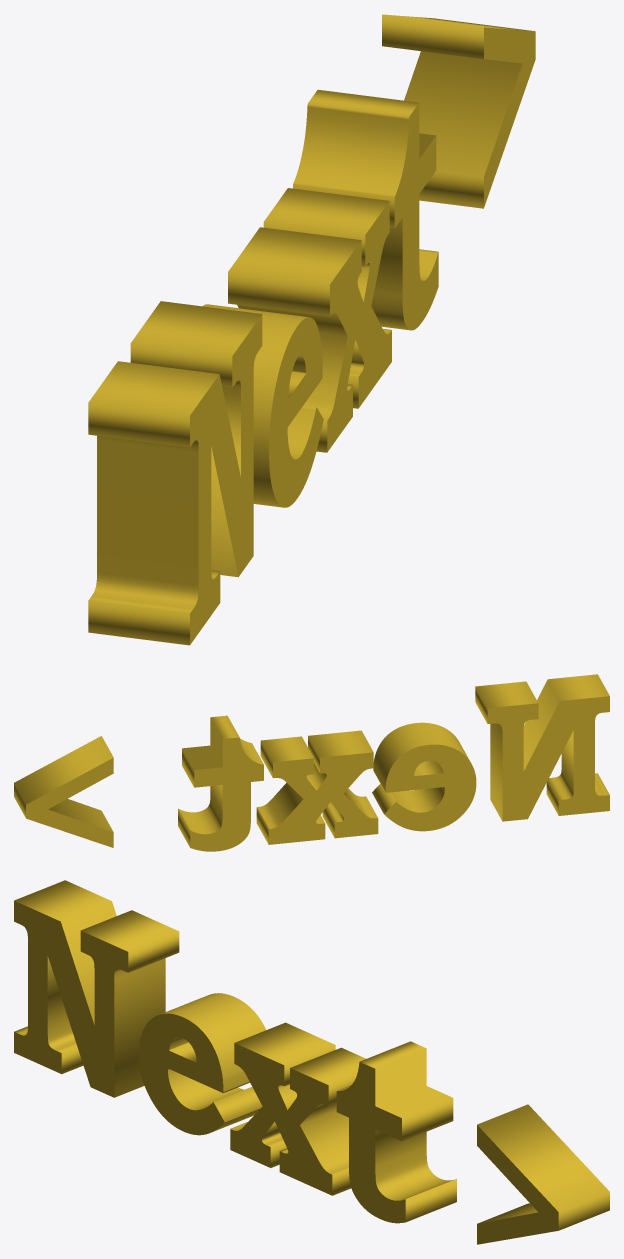
The model's file is board_next.glb.
The picture shows the model from 3 angles, top to bottom: view 1: azimuth 30°, elevation 25°; view 2: azimuth 150°, elevation 25°; view 3: azimuth 270°, elevation 25°; orthographic projection. The views are drawn at different scales.
Parts seen in each view (by area): view 1: Text.012; view 2: Text.012; view 3: Text.012.
Boxes of the visible parts, bbox=[...] form: Text.012: bbox=[88, 14, 535, 645]; Text.012: bbox=[14, 674, 609, 851]; Text.012: bbox=[14, 880, 609, 1244].
Bounding box in the file's own units: 0.3306 × 0.09 × 0.314.
